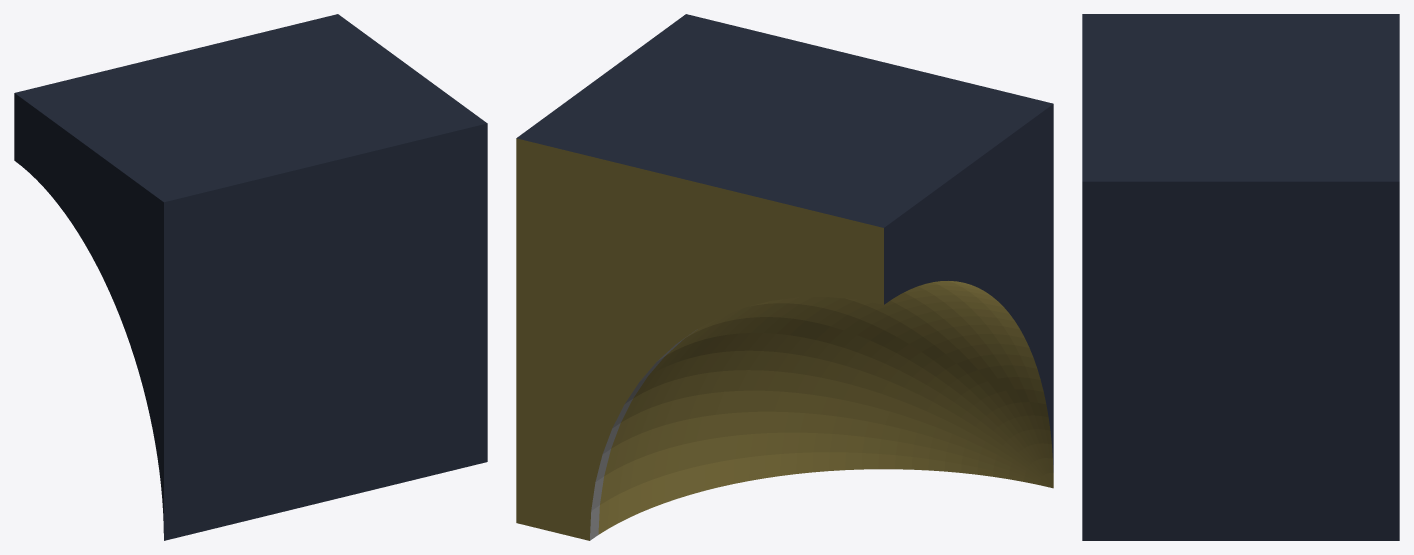
The model's file is Bowl Corner Inside.fbx.
3 renders of one model, left to right at view 1: azimuth 30°, elevation 25°; view 2: azimuth 150°, elevation 25°; view 3: azimuth 270°, elevation 25°, orthographic. The views are drawn at different scales.
Visible parts, largest first — view 1: Bowl Corner Inside; view 2: Bowl Corner Inside; view 3: Bowl Corner Inside.
Boxes of the visible parts, bbox=[...] form: Bowl Corner Inside: bbox=[14, 14, 487, 540]; Bowl Corner Inside: bbox=[516, 14, 1053, 540]; Bowl Corner Inside: bbox=[1082, 14, 1399, 540].
Bounding box in the file's own units: 1000 × 1000 × 800.
